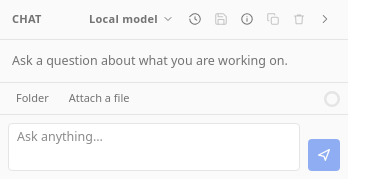
ChatPanel: saved conversations › lists what has been saved, with the file each was about
This screenshot has width=365, height=193.
Click the button named "Saved conversations" at coordinates (195, 19), box [184,8,206,30]
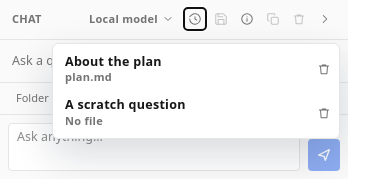
Expected: the text "About the plan" is shown, [65,53,162,70]
Expected: the text "plan.md" is shown, [65,69,112,84]
Expected: the text "No file" is shown, [65,113,103,128]
